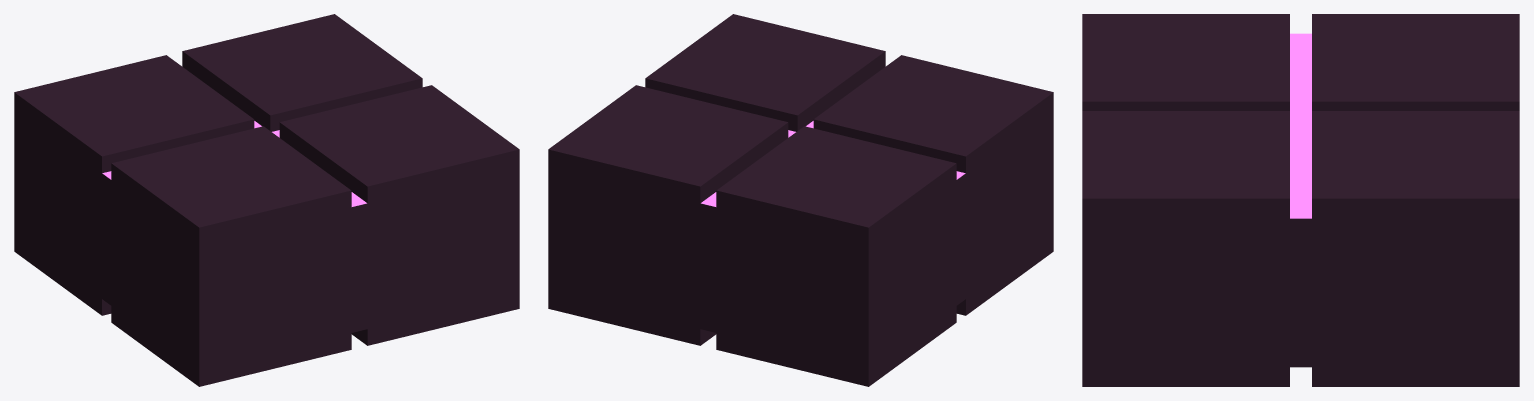
Rendered from Semi-block_2.fbx.
3 renders of one model, left to right at view 1: azimuth 30°, elevation 25°; view 2: azimuth 150°, elevation 25°; view 3: azimuth 270°, elevation 25°, orthographic. The views are drawn at different scales.
Visible parts, largest first — view 1: Semi-block_1.001; view 2: Semi-block_1.001; view 3: Semi-block_1.001.
Part boxes in pixels (x1,y1,x2,y2): Semi-block_1.001: [14, 14, 519, 386]; Semi-block_1.001: [548, 14, 1053, 386]; Semi-block_1.001: [1082, 14, 1519, 386].
Bounding box in the file's own units: 1 × 0.475 × 1.
